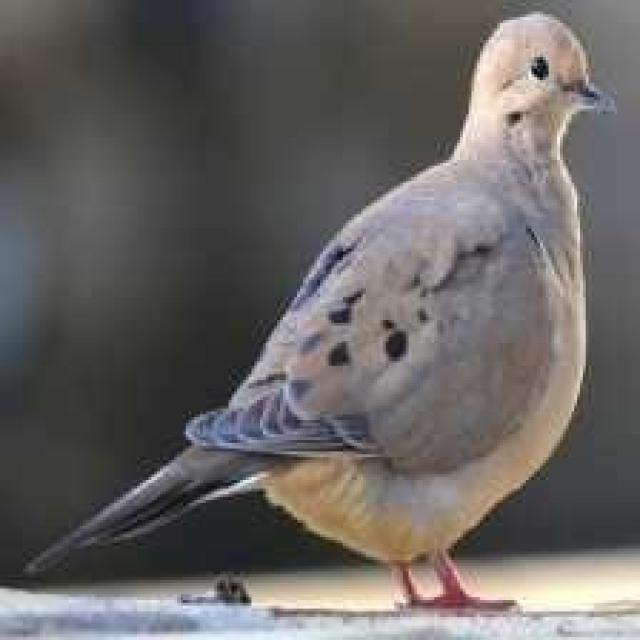dove: (27, 11, 628, 618)
